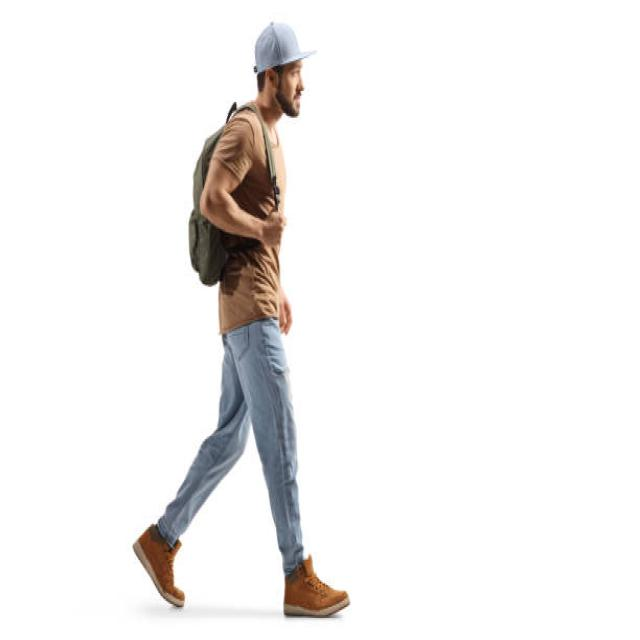Person: (134, 19, 348, 616)
